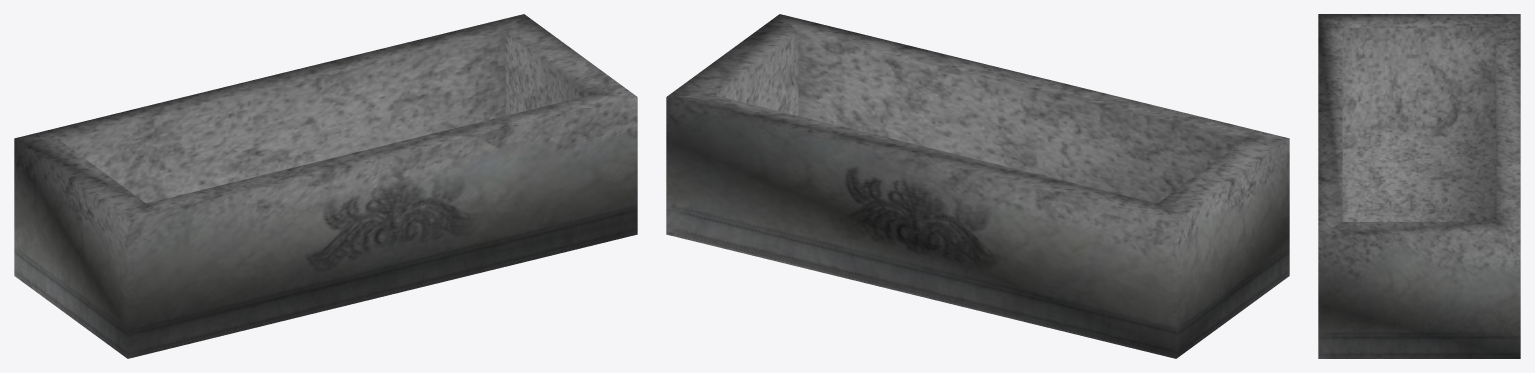
The model's file is coffin.glb.
3 renders of one model, left to right at view 1: azimuth 30°, elevation 25°; view 2: azimuth 150°, elevation 25°; view 3: azimuth 270°, elevation 25°, orthographic. The views are drawn at different scales.
Parts seen in each view (by area): view 1: coffin; view 2: coffin; view 3: coffin.
Boxes of the visible parts, x1,y1,x2,y2 form: coffin: (14,14,637,358); coffin: (666,14,1289,358); coffin: (1318,14,1520,358).
Bounding box in the file's own units: 1.9 × 0.49 × 0.7317.
1 material, 1 textured.
